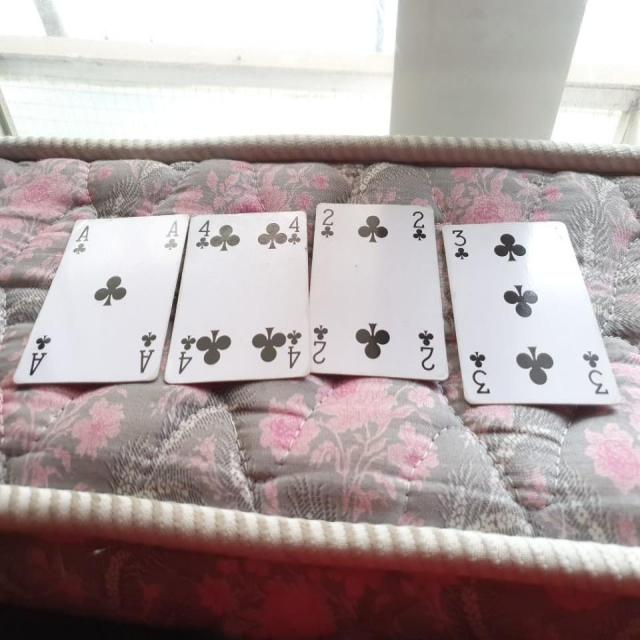2 Trefoils: (308, 200, 449, 383)
3 Trefoils: (441, 214, 622, 411)
4 Trefoils: (164, 210, 310, 386)
A Trefoils: (11, 210, 190, 389)
